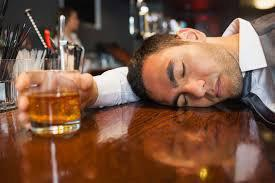Drunk: (142, 44, 237, 106)
